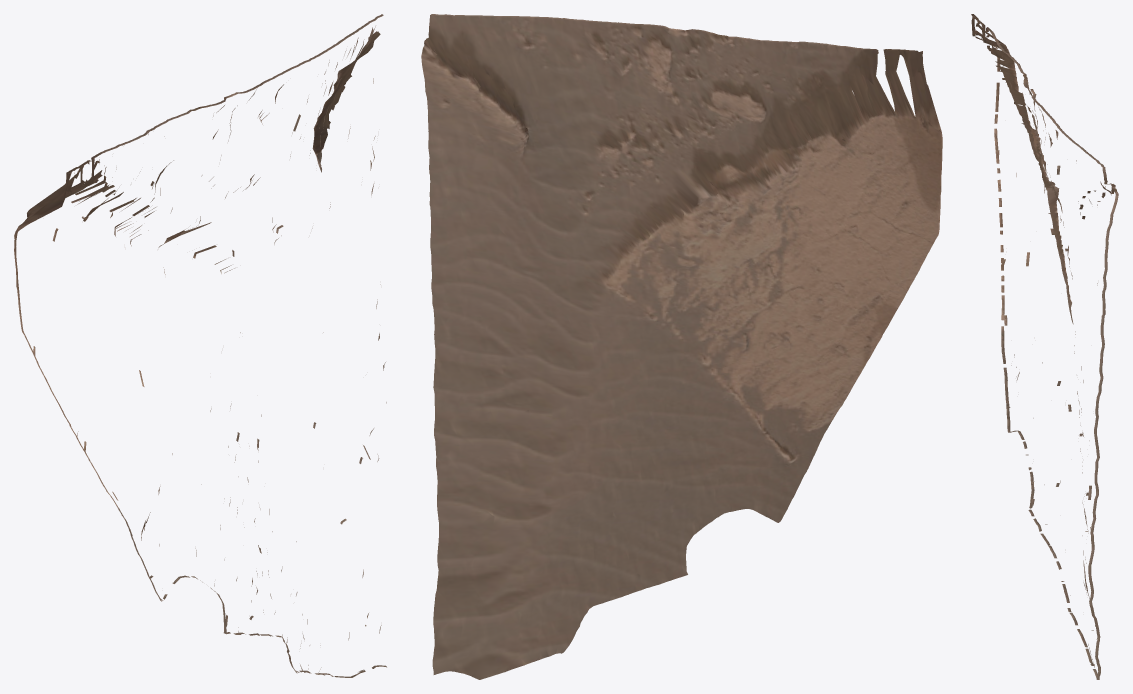
3 renders of one model, left to right at view 1: azimuth 30°, elevation 25°; view 2: azimuth 150°, elevation 25°; view 3: azimuth 270°, elevation 25°, orthographic. The views are drawn at different scales.
Size of the model in its own units: 1.44 by 2.06 by 0.5379.
1 material, 1 textured.
